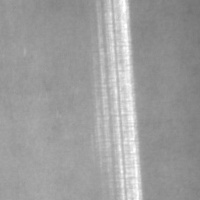scratches: (94, 0, 148, 199)
